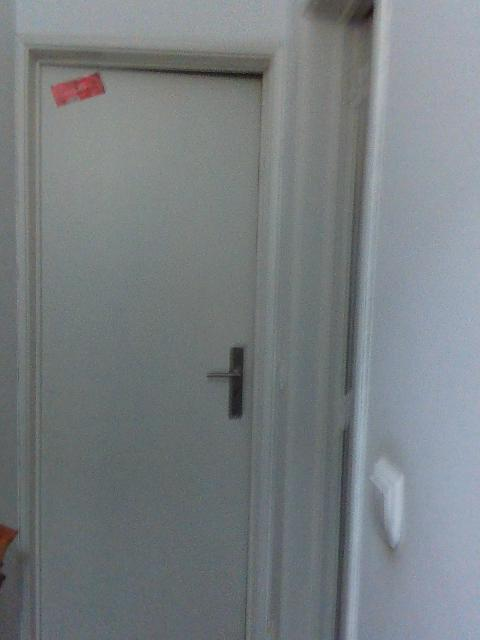door: (37, 68, 262, 639)
